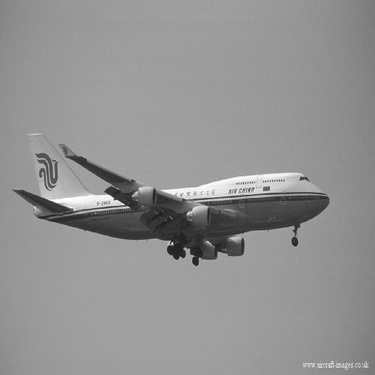airplane: (7, 121, 334, 267)
